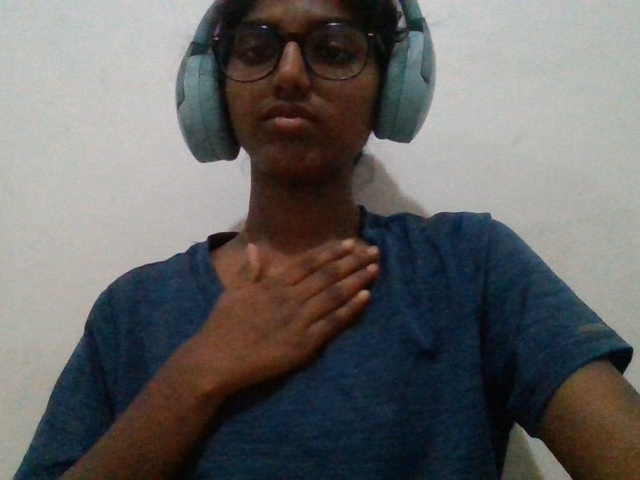Please: (173, 218, 418, 416)
